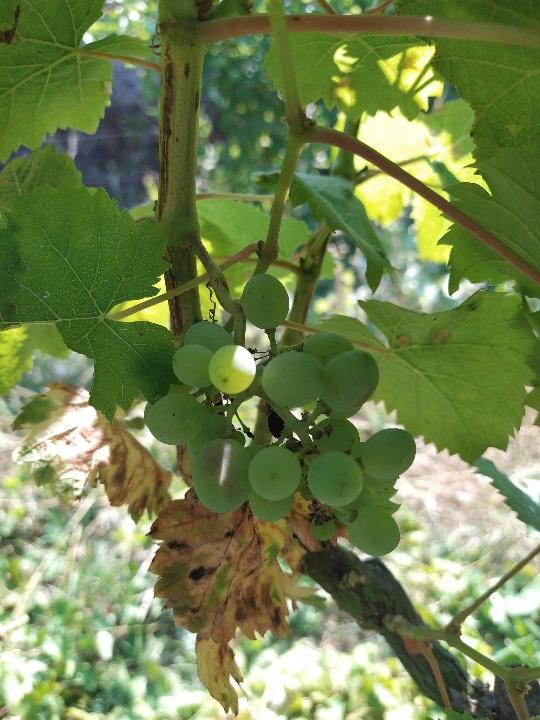grape: (143, 271, 420, 559)
